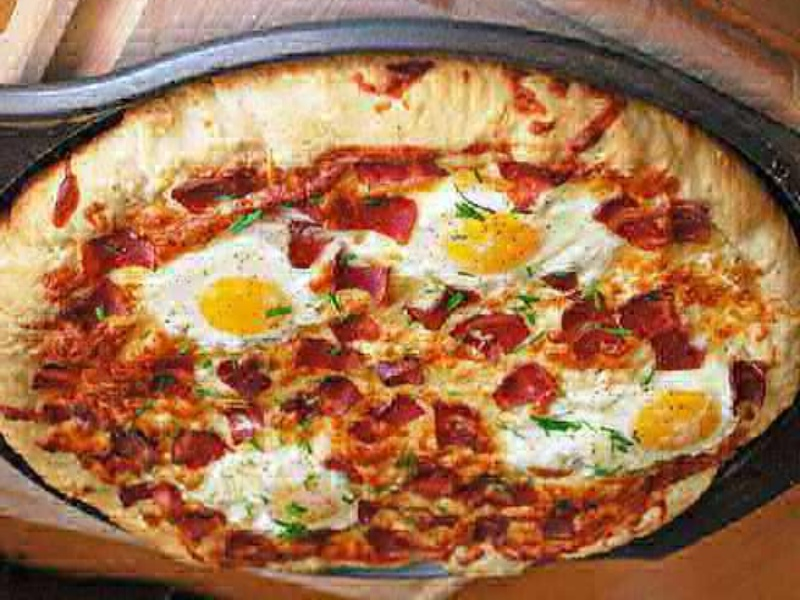oeuf: (176, 262, 304, 347), (418, 204, 556, 278), (627, 382, 734, 461)
